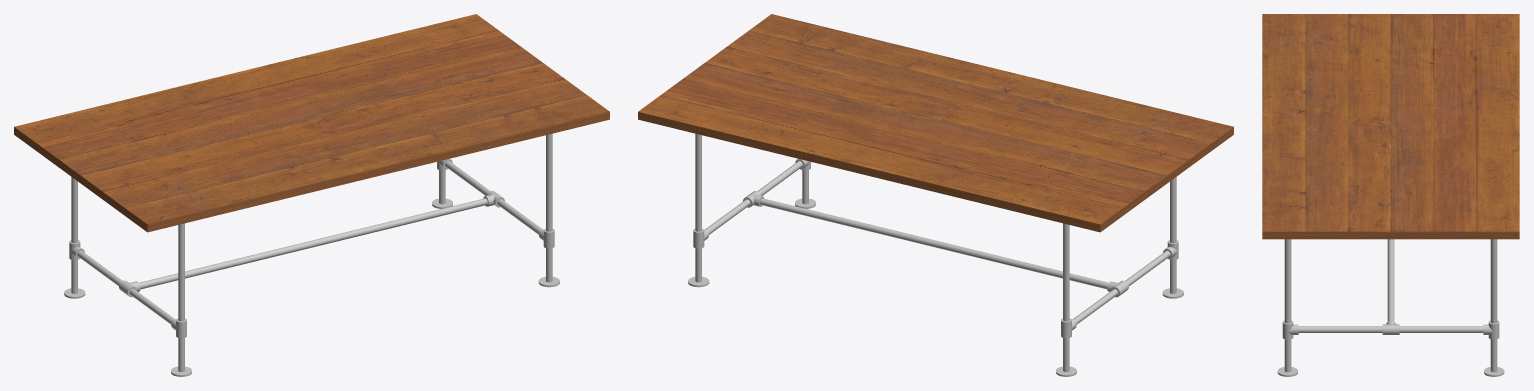
The model's file is table_v1.fbx.
3 renders of one model, left to right at view 1: azimuth 30°, elevation 25°; view 2: azimuth 150°, elevation 25°; view 3: azimuth 270°, elevation 25°, orthographic. The views are drawn at different scales.
Parts seen in each view (by area): view 1: Box001, Cylinder023, Cylinder001, Cylinder010, Cylinder022, Cylinder021, Cylinder020; view 2: Box001, Cylinder023, Cylinder011, Cylinder020, Cylinder022, Cylinder021, Cylinder010; view 3: Box001, Cylinder021, Cylinder001, Cylinder011, Cylinder023.
Part boxes in pixels (x1=…): Box001: x1=14, y1=14, x2=609, y2=232; Cylinder023: x1=139, y1=198, x2=487, y2=289; Cylinder001: x1=546, y1=133, x2=552, y2=282; Cylinder010: x1=178, y1=223, x2=184, y2=371; Cylinder022: x1=77, y1=250, x2=174, y2=324; Cylinder021: x1=445, y1=161, x2=542, y2=234; Cylinder020: x1=71, y1=177, x2=77, y2=293; Box001: x1=638, y1=14, x2=1233, y2=232; Cylinder023: x1=760, y1=198, x2=1108, y2=289; Cylinder011: x1=695, y1=133, x2=701, y2=282; Cylinder020: x1=1063, y1=223, x2=1069, y2=371; Cylinder022: x1=1073, y1=250, x2=1170, y2=324; Cylinder021: x1=705, y1=161, x2=802, y2=234; Cylinder010: x1=1170, y1=177, x2=1176, y2=293; Box001: x1=1262, y1=14, x2=1519, y2=239; Cylinder021: x1=1298, y1=326, x2=1483, y2=332; Cylinder001: x1=1284, y1=239, x2=1291, y2=372; Cylinder011: x1=1490, y1=239, x2=1497, y2=372; Cylinder023: x1=1387, y1=239, x2=1394, y2=321.
Size of the model in its own units: 150 by 52.47 by 75.
